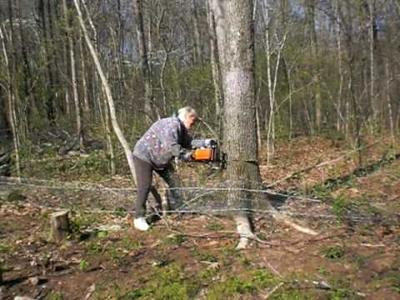person: (133, 107, 200, 231)
